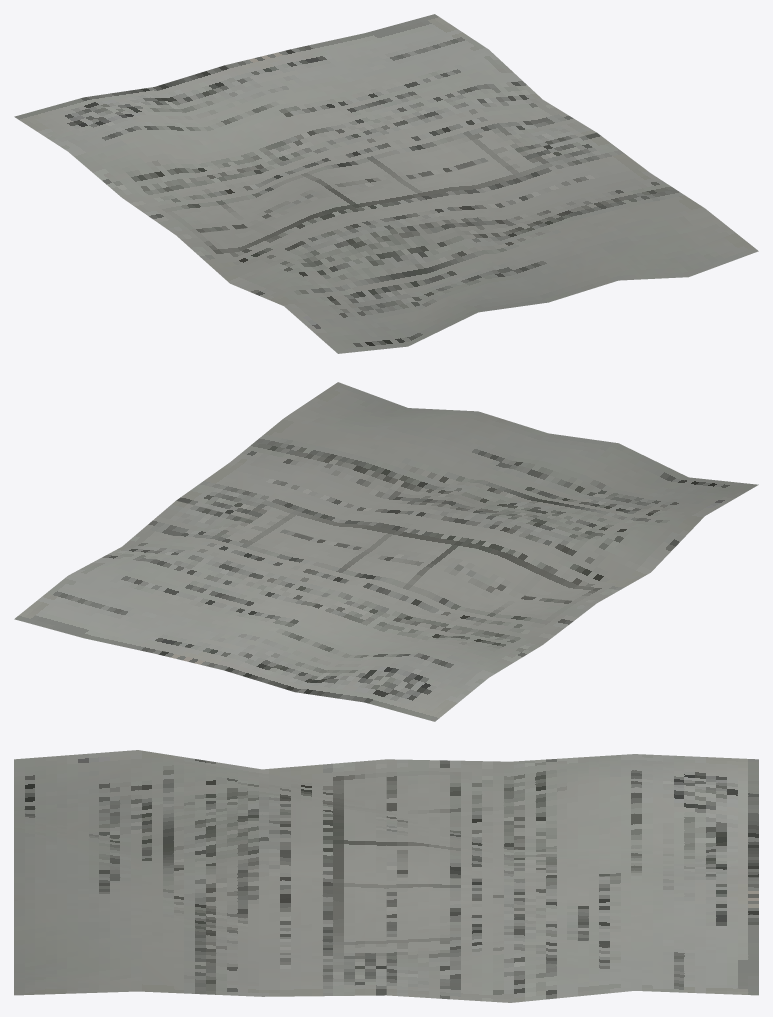
The model's file is form.glb.
3 renders of one model, top to bottom at view 1: azimuth 30°, elevation 25°; view 2: azimuth 150°, elevation 25°; view 3: azimuth 270°, elevation 25°, orthographic. The views are drawn at different scales.
Parts seen in each view (by area): view 1: Plane; view 2: Plane; view 3: Plane.
Boxes of the visible parts, x1,y1,x2,y2 form: Plane: (14, 14, 758, 353); Plane: (14, 382, 758, 721); Plane: (14, 750, 758, 1002).
Size of the model in its own units: 0.75 by 0.0363 by 1.
Materials: 1 (1 with a texture image).
